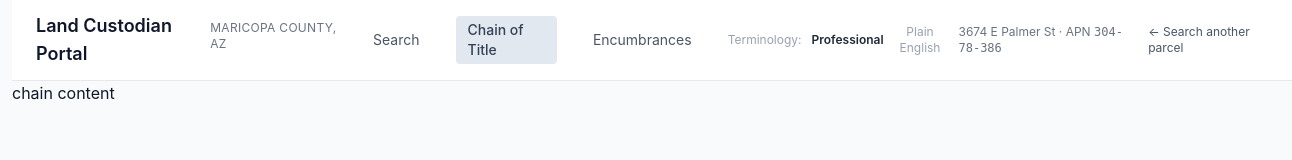
Test case: Nav terminology toggle › toggles back to professional
The width and height of the screenshot is (1292, 160).
What coordinates should you click on to do the following:
click the button "Plain English"
I would click on:
 (920, 40)
Its box is x1=894 y1=22 x2=946 y2=58.
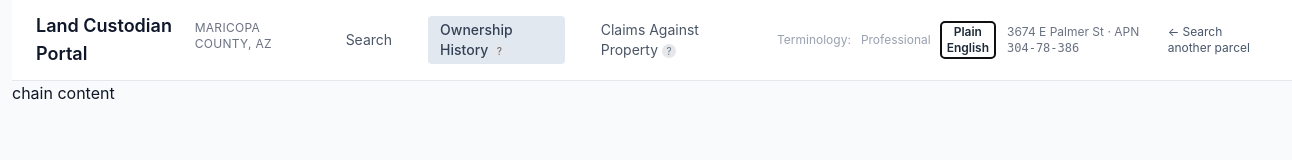
What coordinates should you click on to do the following:
click the button "Professional"
I would click on:
 (896, 40)
Its box is x1=855 y1=30 x2=937 y2=50.
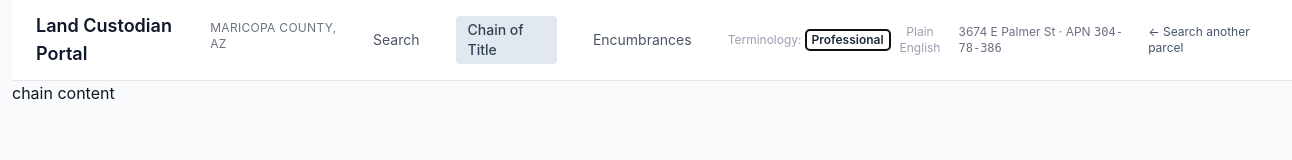
Result: the link "Chain of Title" is shown at x1=456 y1=16 x2=557 y2=64
